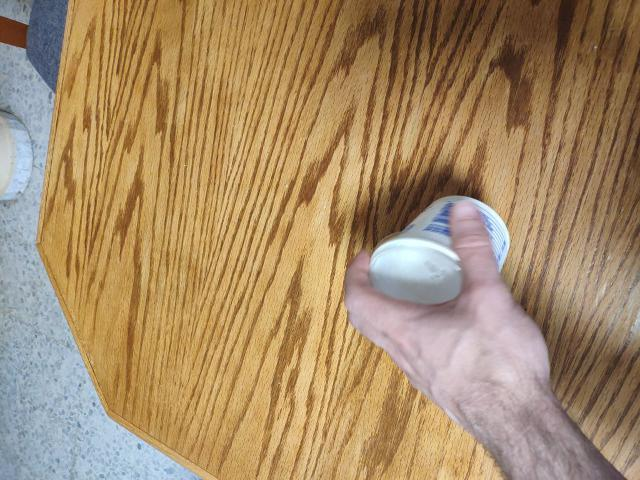cotage: (341, 191, 516, 298)
